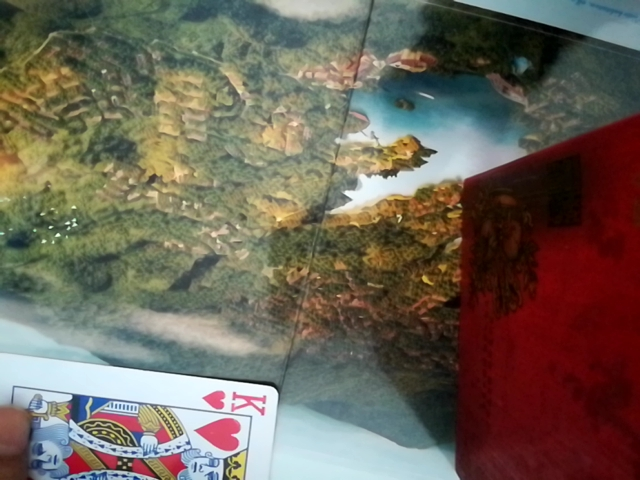hx k: (0, 356, 287, 479)
